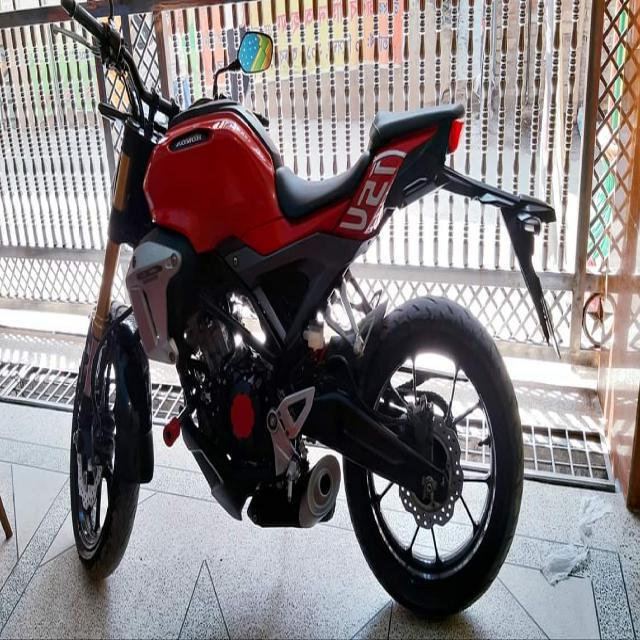Motorbike: (31, 1, 576, 615)
